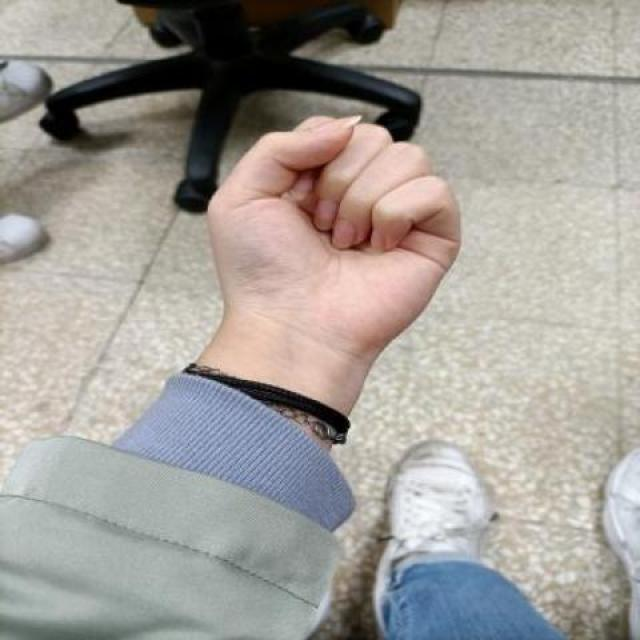Closed Hand: (194, 107, 474, 333)
